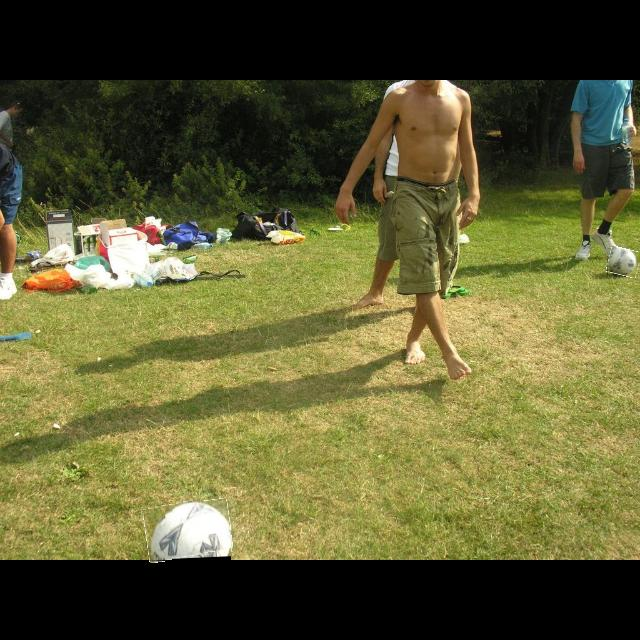Football: (145, 501, 231, 561), (607, 247, 640, 276)
